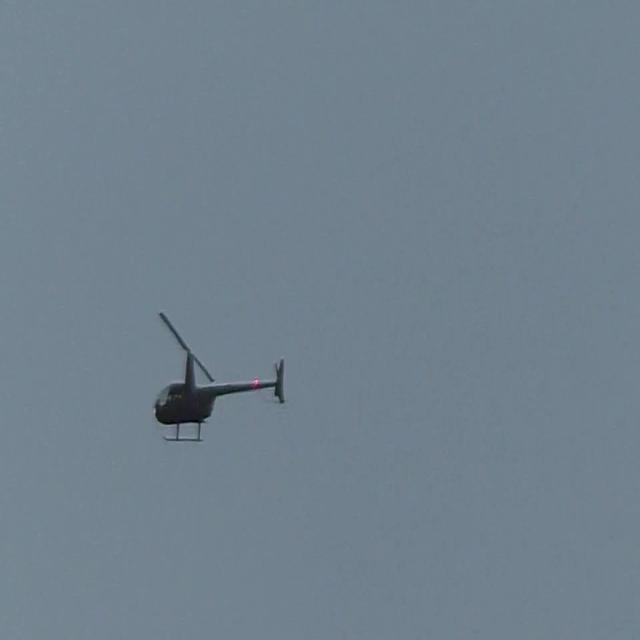CIV_HELO: (151, 348, 287, 444)
